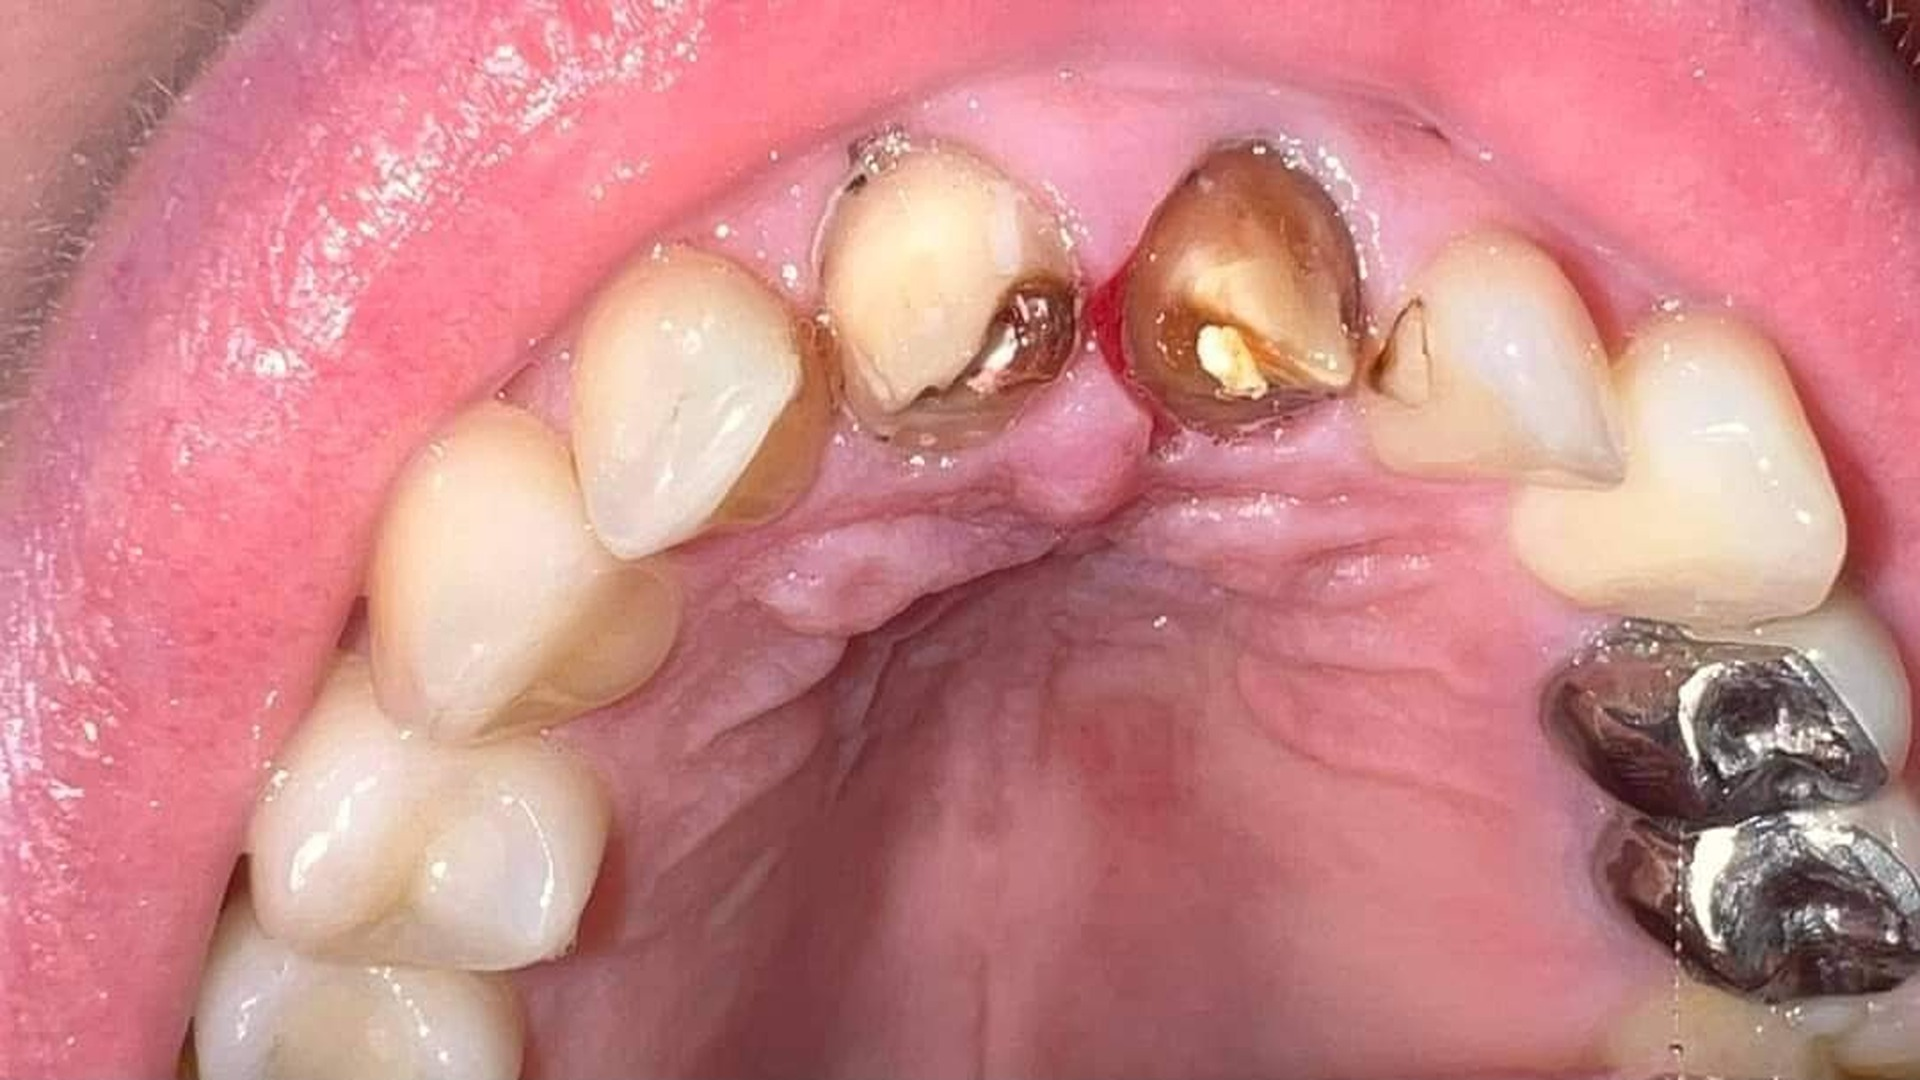tooth: (244, 652, 611, 972), (1509, 303, 1847, 629), (368, 401, 685, 746), (1538, 595, 1911, 834), (569, 245, 840, 561), (820, 141, 1087, 454), (1093, 139, 1374, 421), (1362, 226, 1627, 493), (1591, 801, 1918, 1005), (191, 897, 527, 1078)
